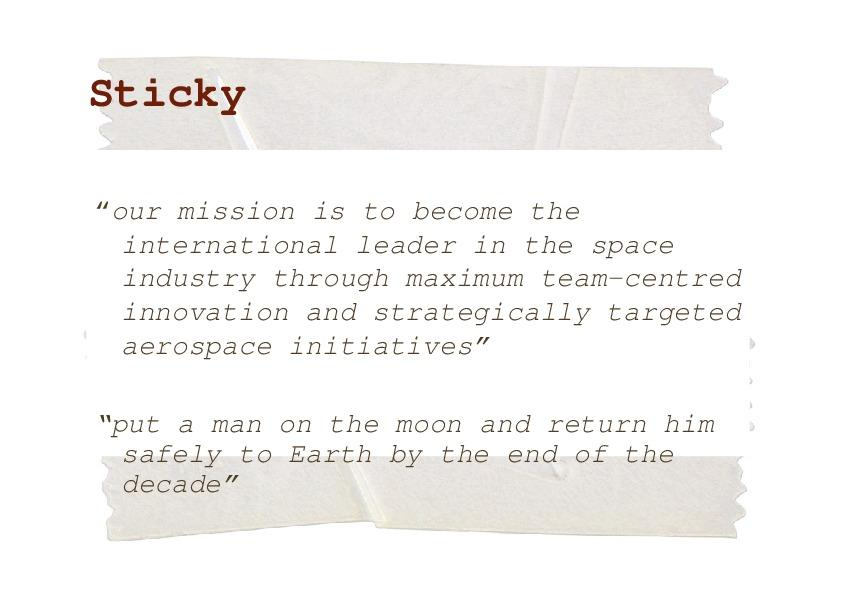paragraph: (82, 178, 778, 519)
title: (84, 65, 260, 132)
